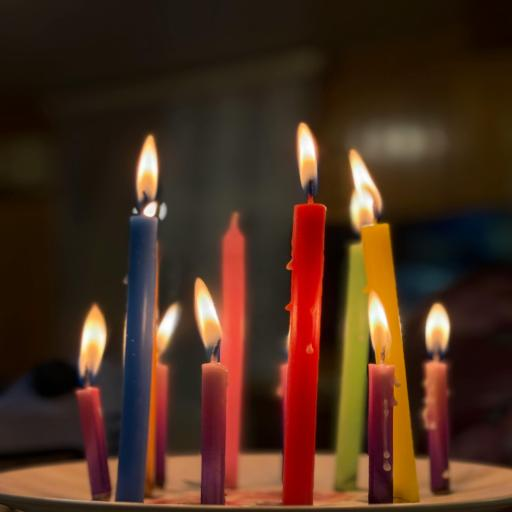candlelight: (352, 144, 410, 498), (114, 134, 162, 500), (284, 116, 326, 503), (328, 149, 372, 483), (73, 302, 114, 502), (197, 276, 230, 510), (220, 212, 246, 484), (420, 300, 453, 495), (275, 327, 288, 478)
